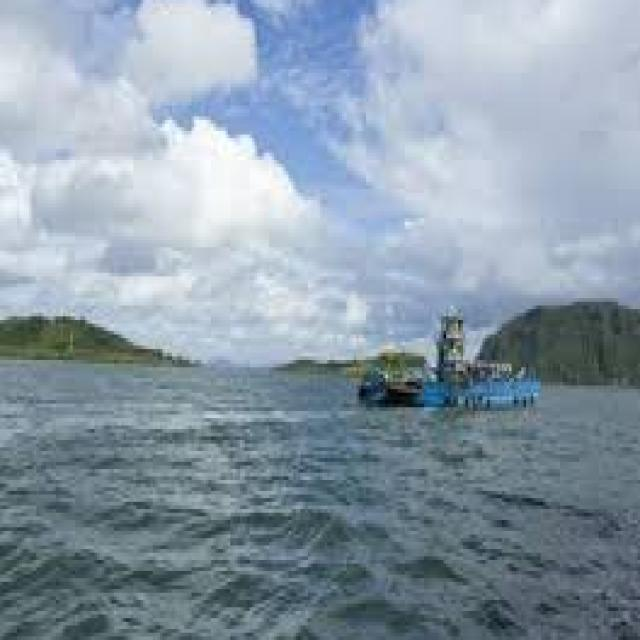cargoship: (354, 302, 560, 409)
